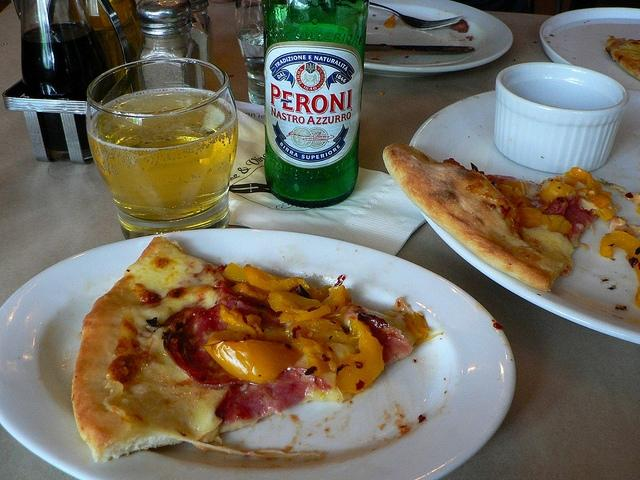bell pepper: (205, 330, 303, 384), (336, 318, 384, 398), (599, 230, 640, 310), (284, 317, 349, 351), (268, 291, 331, 323), (244, 264, 309, 292), (220, 305, 257, 339), (540, 181, 577, 202), (537, 212, 572, 234), (518, 207, 542, 228), (224, 262, 248, 282), (498, 180, 526, 196), (328, 286, 349, 306), (568, 167, 590, 181)
